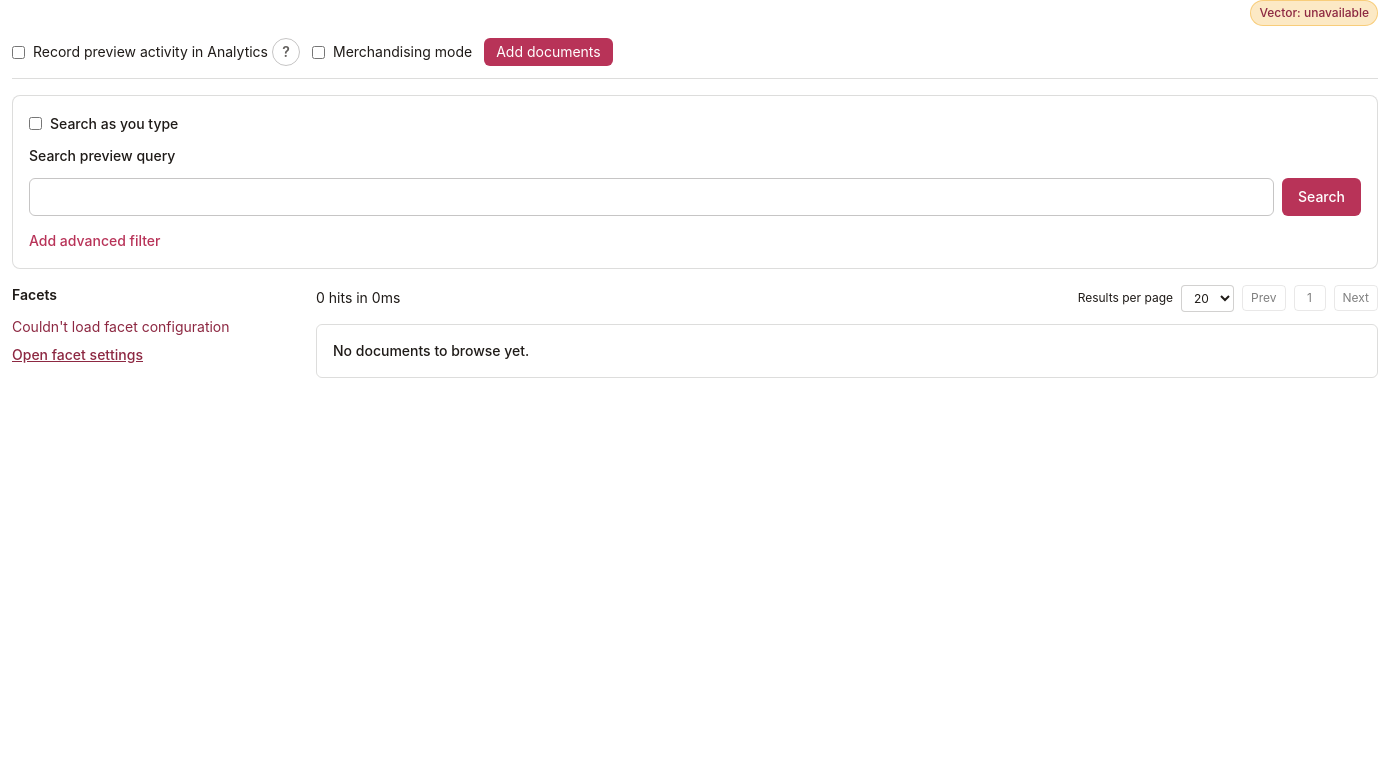
Test: InstantSearch analytics › does not record result activity without an object ID
Click the checkbox labelled "Record preview activity in Analytics". click: (18, 52)
box: top-left (12, 46), bottom-right (25, 58)
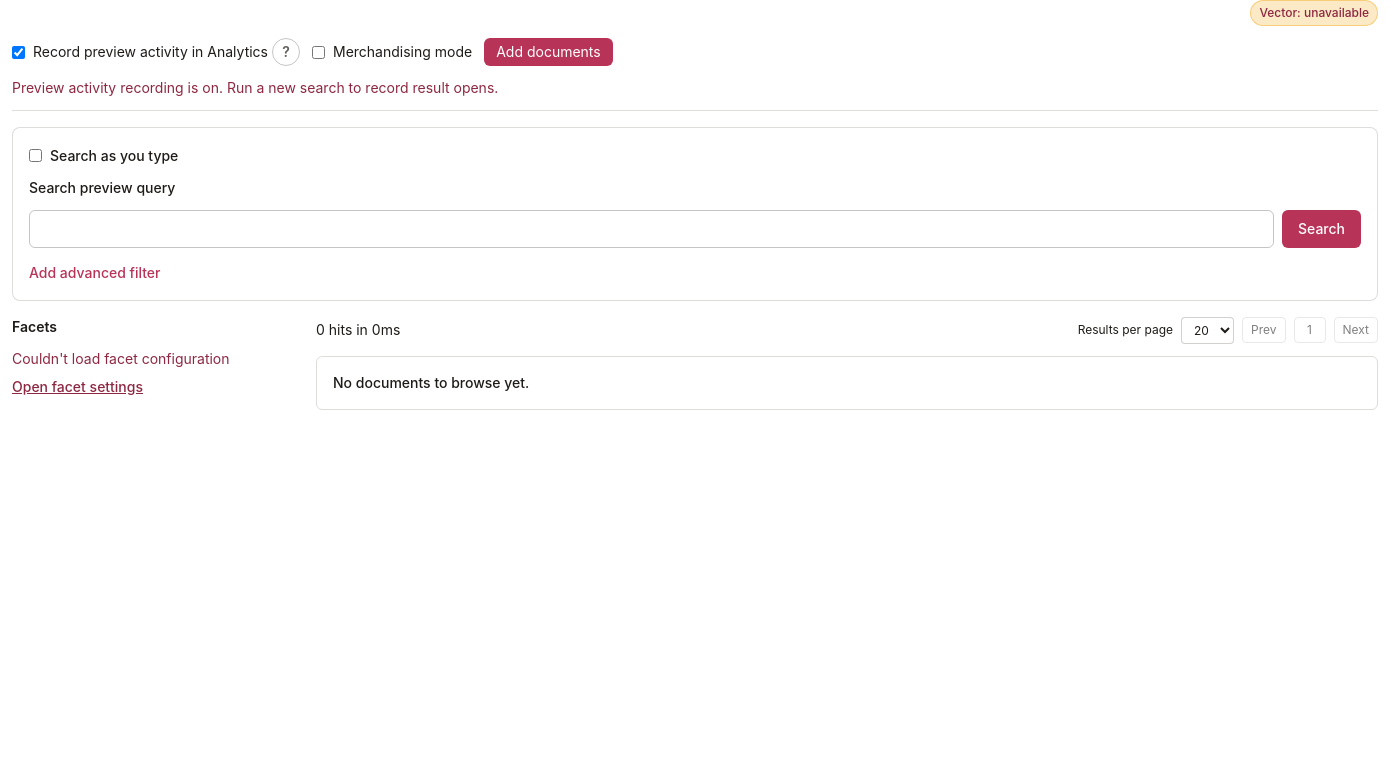
Type "rust" into the search field labelled "Search preview query". click: (652, 228)
box: top-left (29, 210), bottom-right (1274, 248)
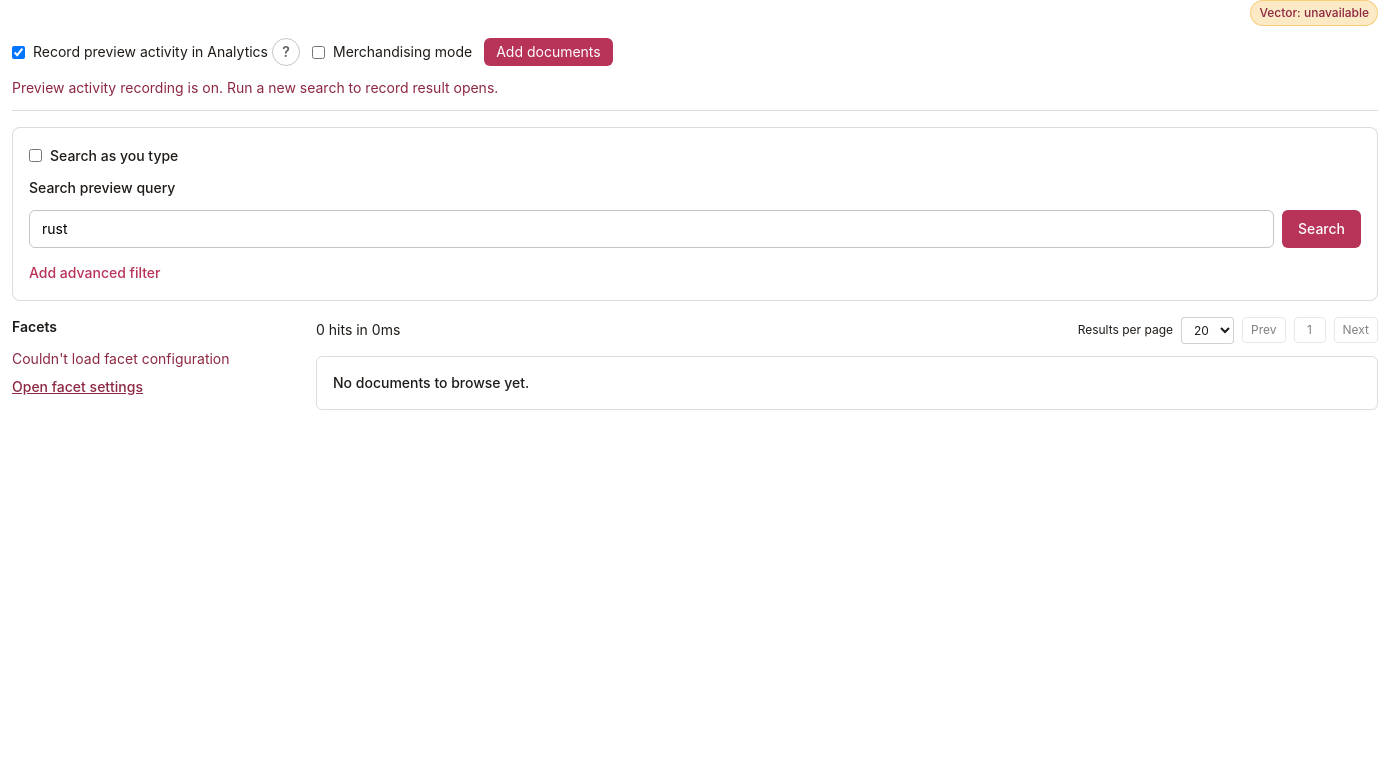
Press Enter in the search field labelled "Search preview query", box top-left (29, 210), bottom-right (1274, 248)
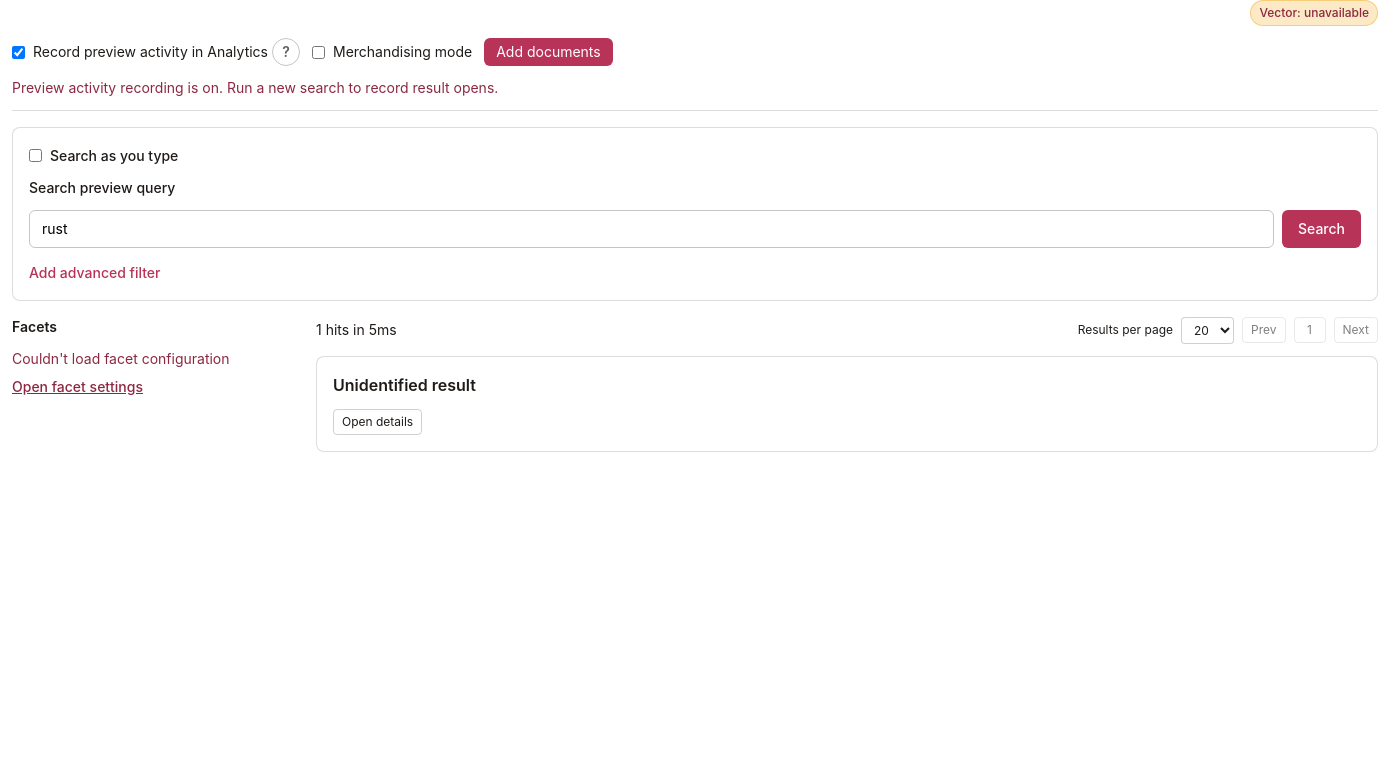
Check: the text "Unidentified result" is shown, box top-left (333, 374), bottom-right (476, 394)
Click the button "Open details". click: (378, 422)
box: top-left (333, 408), bottom-right (422, 434)
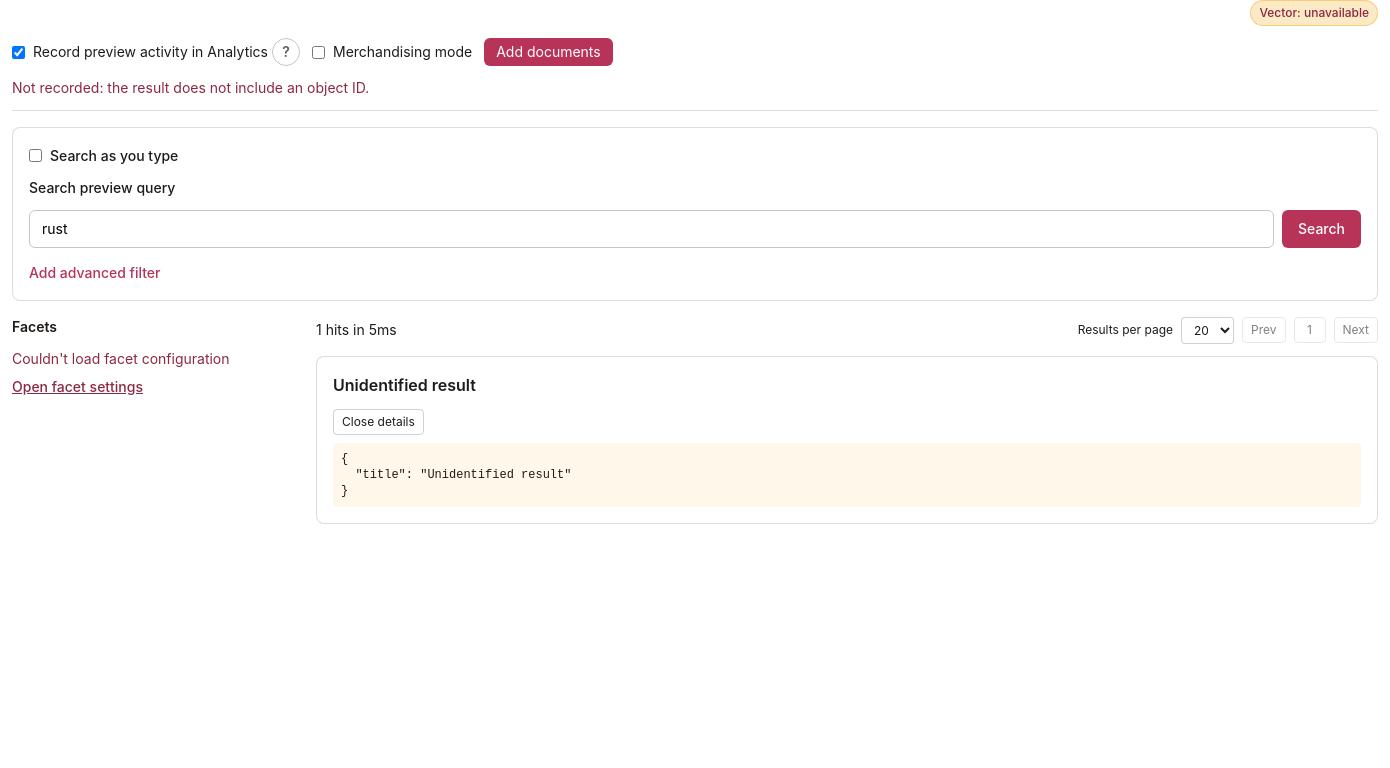
Check: the message reads "Not recorded: the result does not include an object ID.", box top-left (12, 79), bottom-right (369, 96)
